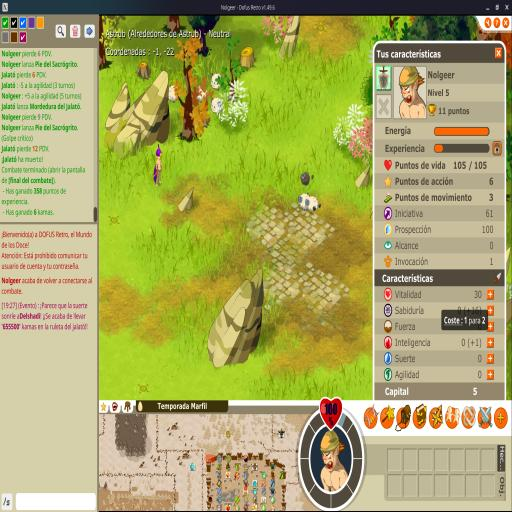Enemigos: (306, 195, 321, 213), (196, 83, 209, 103), (210, 96, 223, 116), (298, 192, 311, 212), (300, 171, 314, 188), (168, 84, 180, 103), (210, 72, 222, 90)
Personaje: (153, 144, 163, 188)
